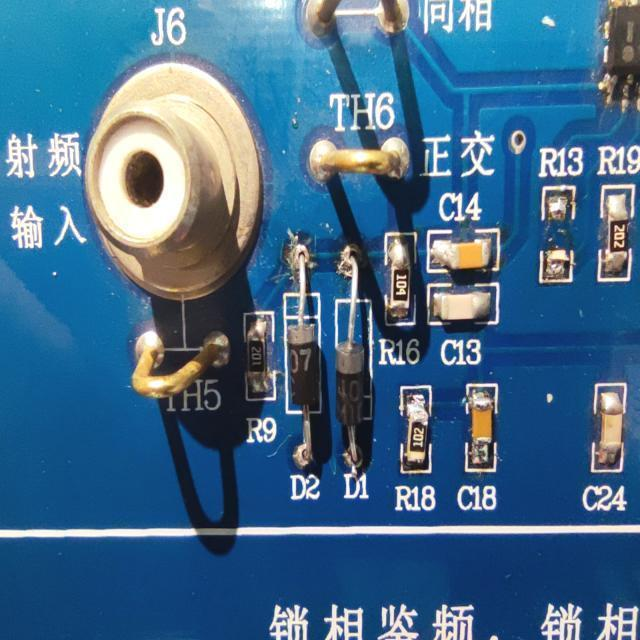Missing component: (538, 142, 586, 287)
